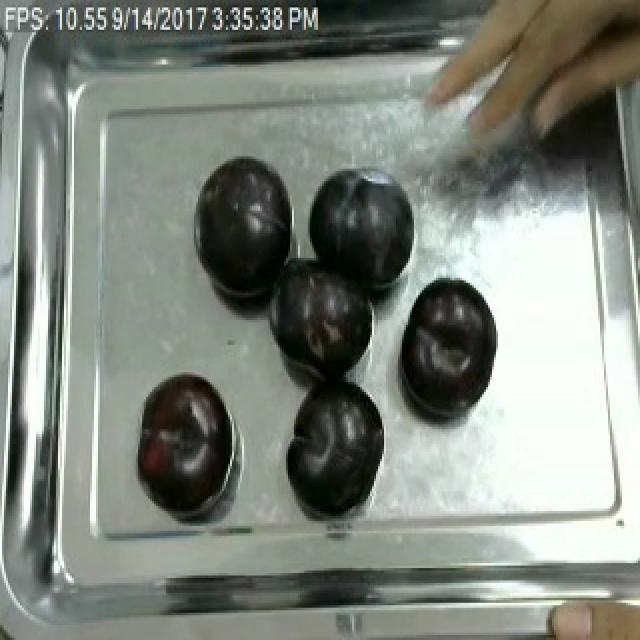Fruit: (392, 270, 502, 427), (300, 161, 424, 300), (190, 151, 298, 305), (262, 248, 380, 387), (282, 372, 386, 521), (134, 367, 232, 514), (538, 588, 640, 640)
